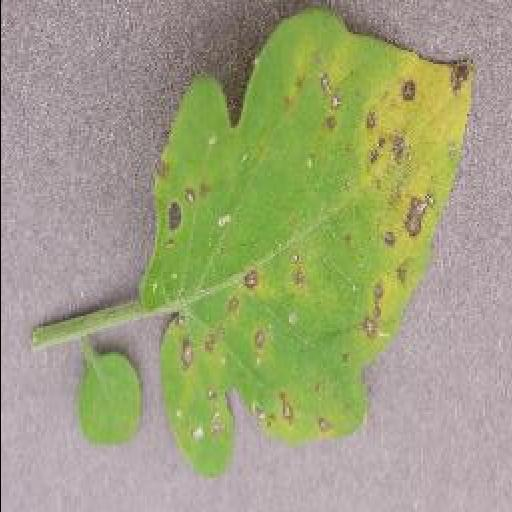disease_tomato: (142, 11, 478, 480)
